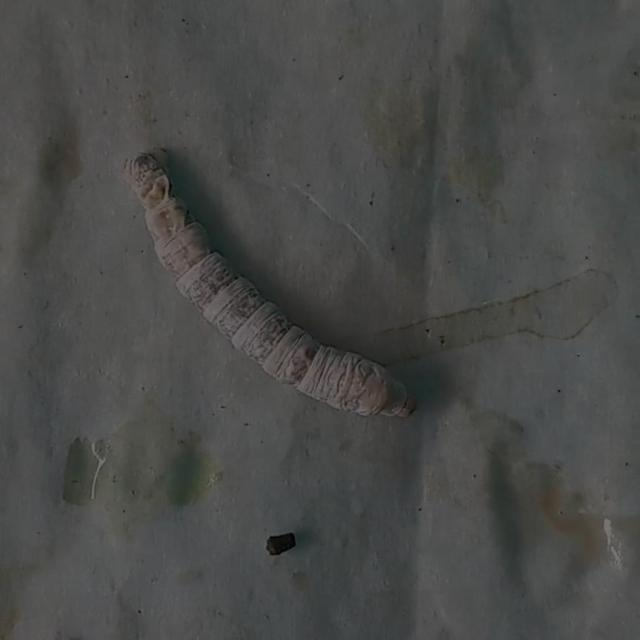Grasserie: (97, 109, 444, 446)
